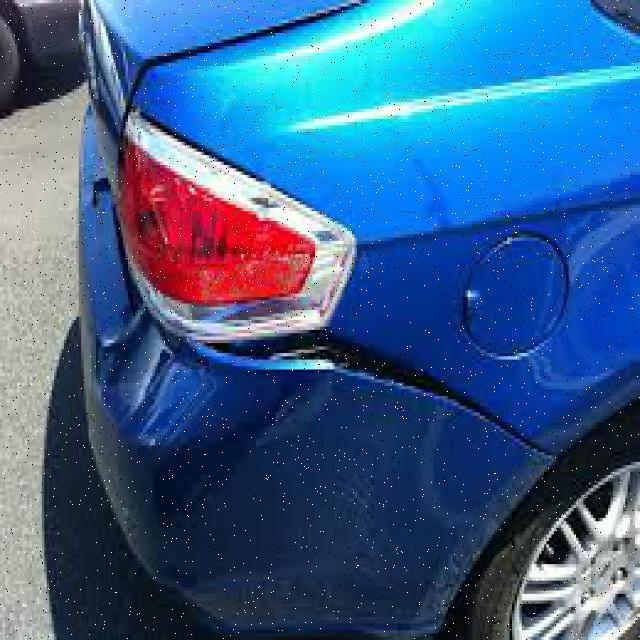car damage: (84, 330, 545, 637)
